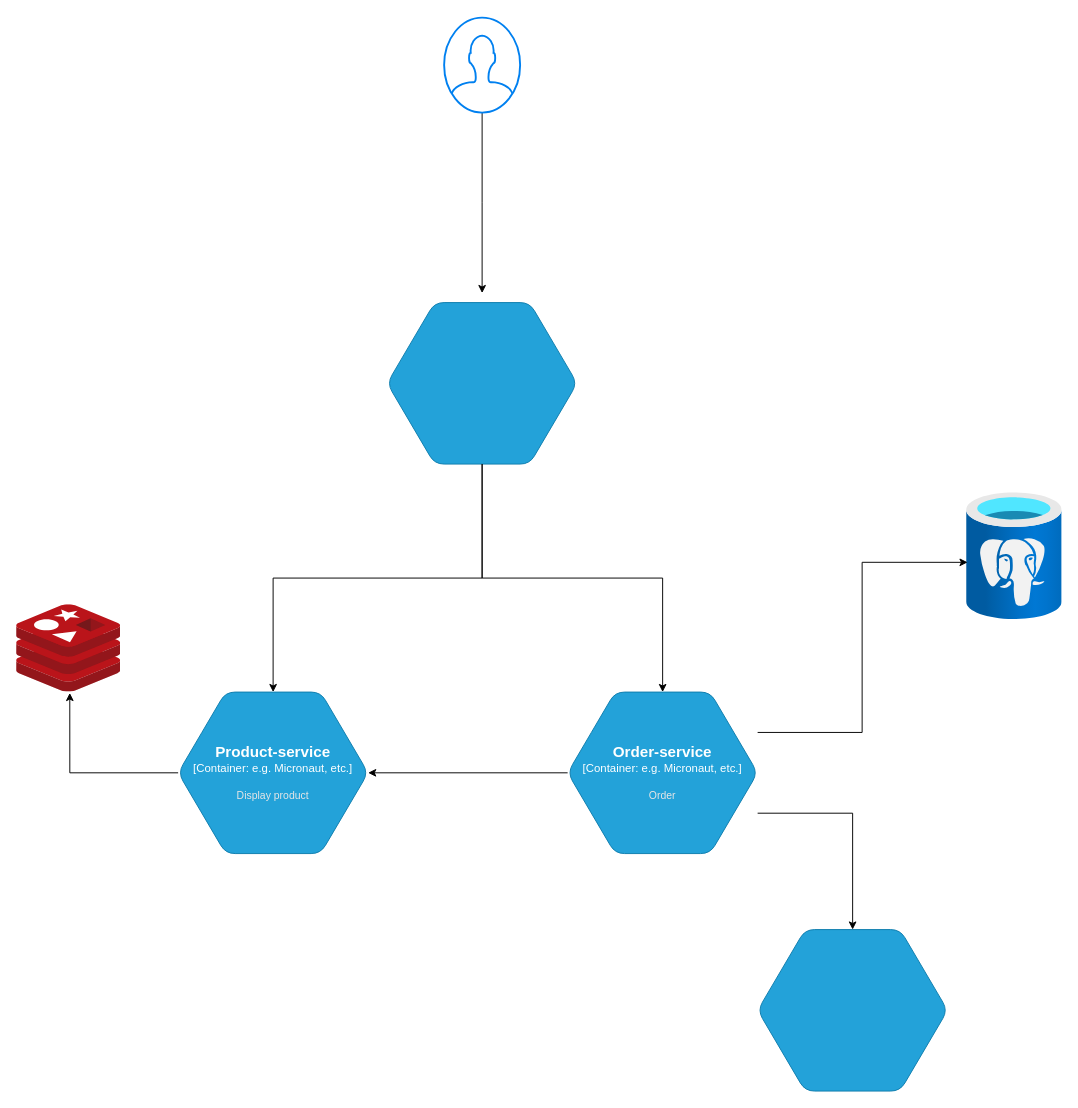
The diagram is 1078 pixels wide and 1108 high, and some of its shapes have lost their labels. Each missing label, with the centre of its shape:
"Frontend [Container: e.g. Micronaut, etc.] User Interface" goes at (481,383).
"Notification-service [Container: e.g. Micronaut, etc.] Send Notification" goes at (852,1010).
